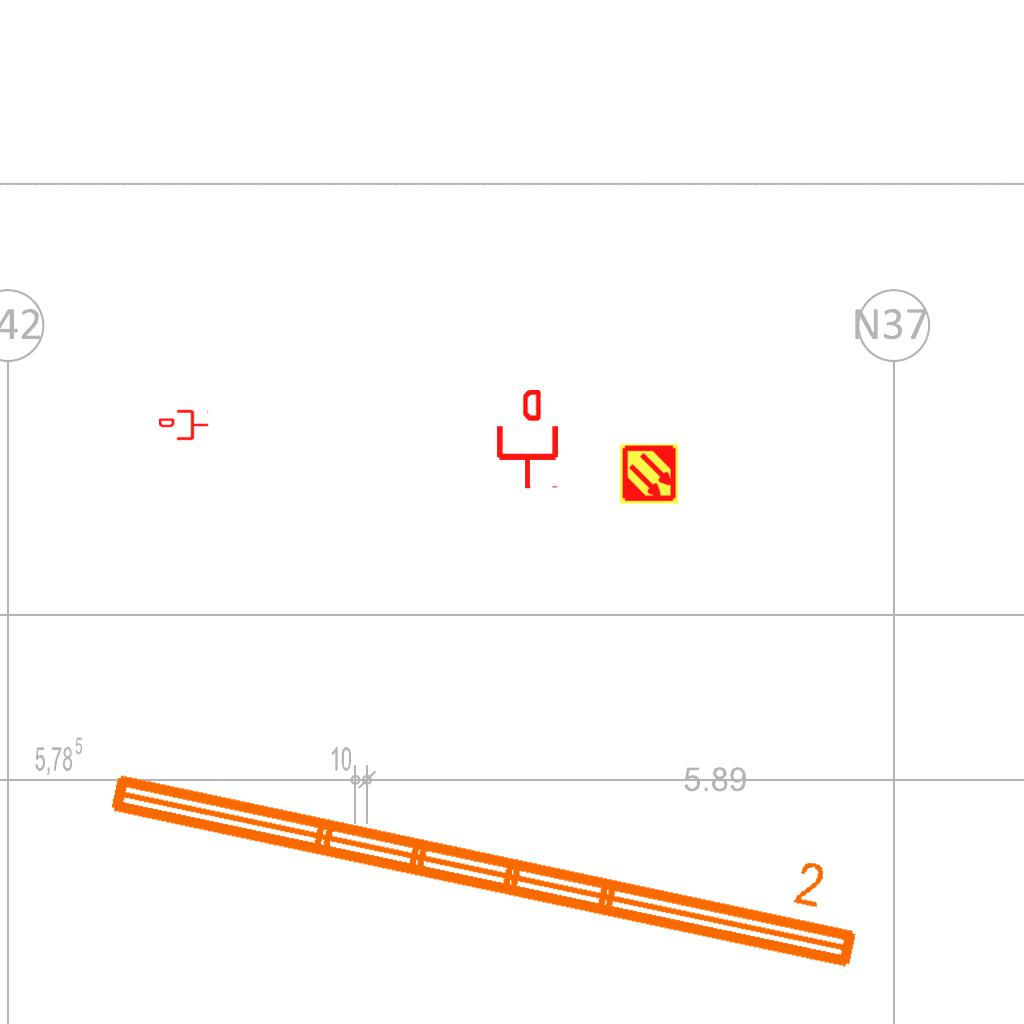ASR_Ansaugrauchmelder: (618, 443, 680, 505)
Ambulanz_Pendelleuchte_LED: (97, 710, 879, 982)
Datenanschluss_einfach: (493, 390, 562, 490), (159, 408, 209, 442)
